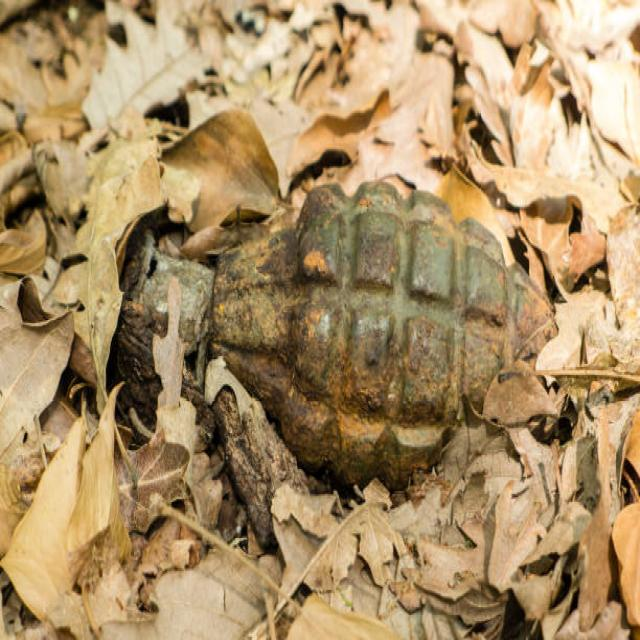grenade: (119, 173, 568, 505)
